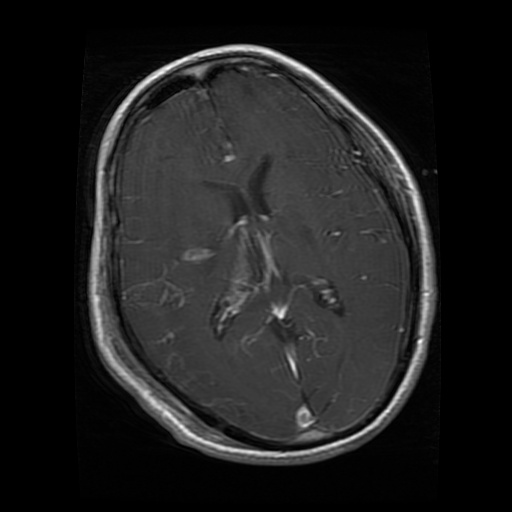glioma: (210, 227, 261, 339)
